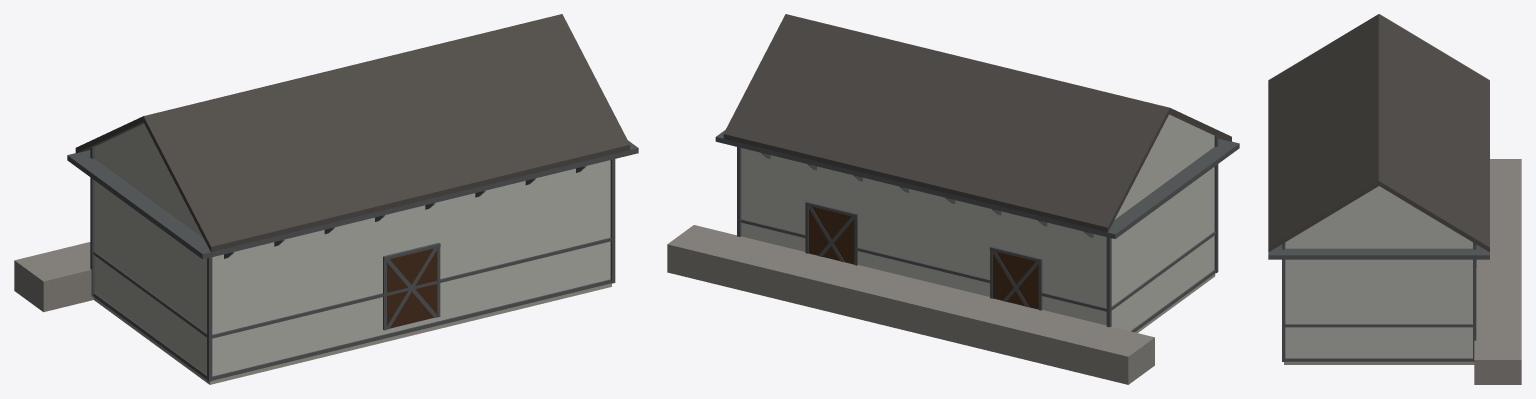
Rendered from Walworth_Freight_House.glb.
3 renders of one model, left to right at view 1: azimuth 30°, elevation 25°; view 2: azimuth 150°, elevation 25°; view 3: azimuth 270°, elevation 25°, orthographic. The views are drawn at different scales.
Visible parts, largest first — view 1: roof, walls, trim, platform, doors, foundation; view 2: roof, walls, platform, trim, doors; view 3: roof, walls, platform, trim, foundation.
Part boxes in pixels (box(x1,y1,x2,y2)): roof: box(75, 14, 629, 252); walls: box(94, 123, 610, 376); trim: box(67, 140, 638, 381); platform: box(14, 242, 93, 312); doors: box(387, 248, 436, 328); foundation: box(93, 283, 611, 384); roof: box(723, 14, 1231, 232); walls: box(741, 114, 1214, 331); platform: box(667, 225, 1154, 384); trim: box(715, 130, 1239, 332); doors: box(808, 206, 1038, 309); roof: box(1268, 14, 1489, 251); walls: box(1285, 186, 1472, 358); platform: box(1474, 159, 1521, 384); trim: box(1268, 242, 1489, 361); foundation: box(1284, 361, 1474, 364).
Bounding box in the file's own units: 0.6306 × 0.2735 × 0.3363.
